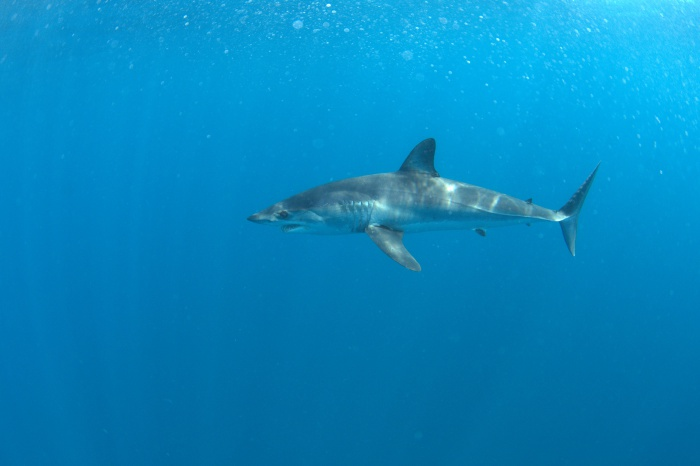Mako: (229, 133, 617, 272)
